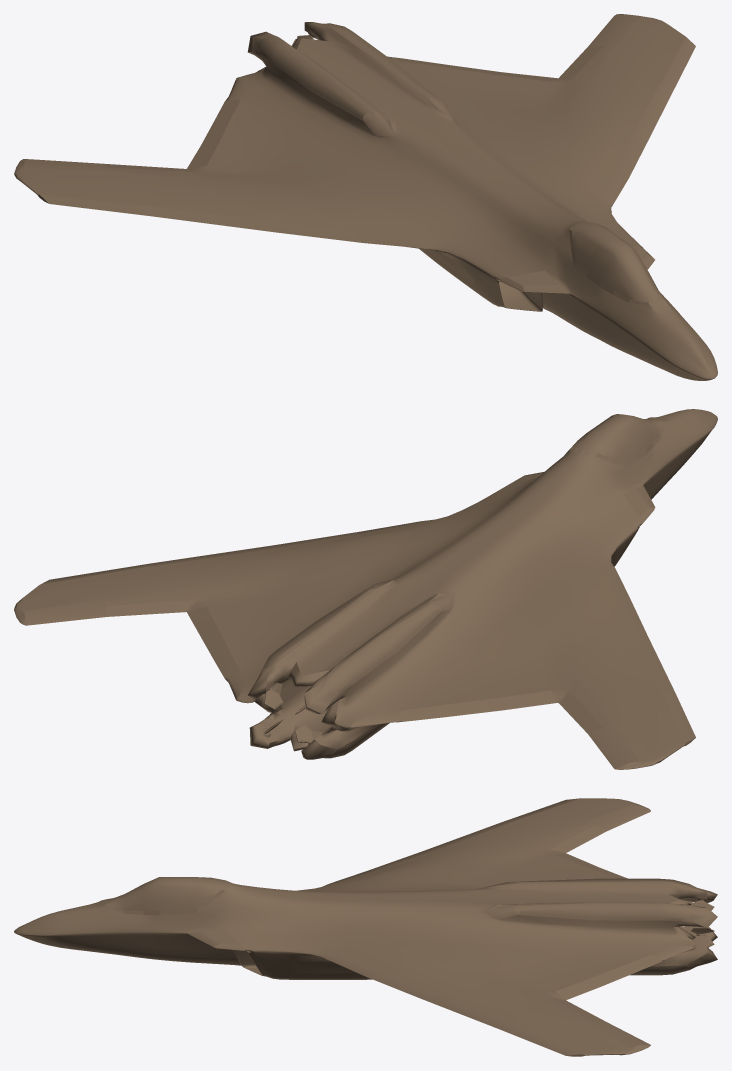
The picture shows the model from 3 angles, top to bottom: view 1: azimuth 30°, elevation 25°; view 2: azimuth 150°, elevation 25°; view 3: azimuth 270°, elevation 25°; orthographic projection. The views are drawn at different scales.
Visible parts, largest first — view 1: MainAirFrame, Canopy, ControlSurface_SlatesRight, VGDoorTop, ControlSurface_SlatesLeft, ControlSerfice_FlapsInnerR, ControlSurface_CanardsR, ControlSerfice_AileronL, ControlSerfice_AileronR, VGCapTop, ControlSerfice_FlapsInnerL; view 2: MainAirFrame, VGDoorTop, Canopy, ControlSurface_SlatesRight, ControlSerfice_FlapsInnerR, ControlSerfice_FlapsInnerL, ControlSurface_SlatesLeft, ControlSerfice_AileronL, ControlSerfice_AileronR, ControlSerfice_FlapsOuterL, ControlSerfice_FlapsOuterR, ControlSurface_CanardsR; view 3: MainAirFrame, VGDoorTop, Canopy, ControlSurface_SlatesLeft, ControlSerfice_FlapsInnerL, ControlSurface_SlatesRight, ControlSerfice_AileronR, ControlSurface_CanardsL, MissileDoorL, ControlSerfice_AileronL, ControlSerfice_FlapsOuterR, VGCapTop (+1 smaller).
Part boxes in pixels (x1,y1,x2,y2): MainAirFrame: [14, 14, 717, 380]; Canopy: [569, 222, 666, 305]; ControlSurface_SlatesRight: [38, 194, 421, 248]; VGDoorTop: [260, 23, 436, 121]; ControlSurface_SlatesLeft: [604, 37, 695, 200]; ControlSerfice_FlapsInnerR: [187, 99, 240, 168]; ControlSurface_CanardsR: [500, 270, 567, 293]; ControlSerfice_AileronL: [588, 15, 639, 46]; ControlSerfice_AileronR: [24, 159, 106, 171]; VGCapTop: [363, 96, 453, 135]; ControlSerfice_FlapsInnerL: [397, 58, 557, 81]; MainAirFrame: [14, 409, 717, 769]; VGDoorTop: [262, 588, 440, 692]; Canopy: [569, 414, 666, 467]; ControlSurface_SlatesRight: [604, 568, 695, 745]; ControlSerfice_FlapsInnerR: [397, 690, 558, 721]; ControlSerfice_FlapsInnerL: [187, 606, 240, 678]; ControlSurface_SlatesLeft: [40, 521, 420, 584]; ControlSerfice_AileronL: [24, 599, 106, 625]; ControlSerfice_AileronR: [588, 723, 639, 768]; ControlSerfice_FlapsOuterL: [106, 600, 186, 616]; ControlSerfice_FlapsOuterR: [558, 696, 602, 734]; ControlSurface_CanardsR: [624, 486, 655, 523]; MainAirFrame: [14, 798, 717, 1056]; VGDoorTop: [517, 878, 689, 920]; Canopy: [101, 877, 229, 915]; ControlSurface_SlatesLeft: [329, 955, 583, 1056]; ControlSerfice_FlapsInnerL: [556, 954, 661, 1000]; ControlSurface_SlatesRight: [330, 798, 580, 883]; ControlSerfice_AileronR: [587, 804, 649, 831]; ControlSurface_CanardsL: [188, 928, 244, 950]; MissileDoorL: [291, 961, 356, 972]; ControlSerfice_AileronL: [586, 1022, 649, 1047]; ControlSerfice_FlapsOuterR: [556, 825, 605, 852]; VGCapTop: [482, 881, 520, 919].
Bounding box in the file's own units: 1.72 × 0.263 × 2.
